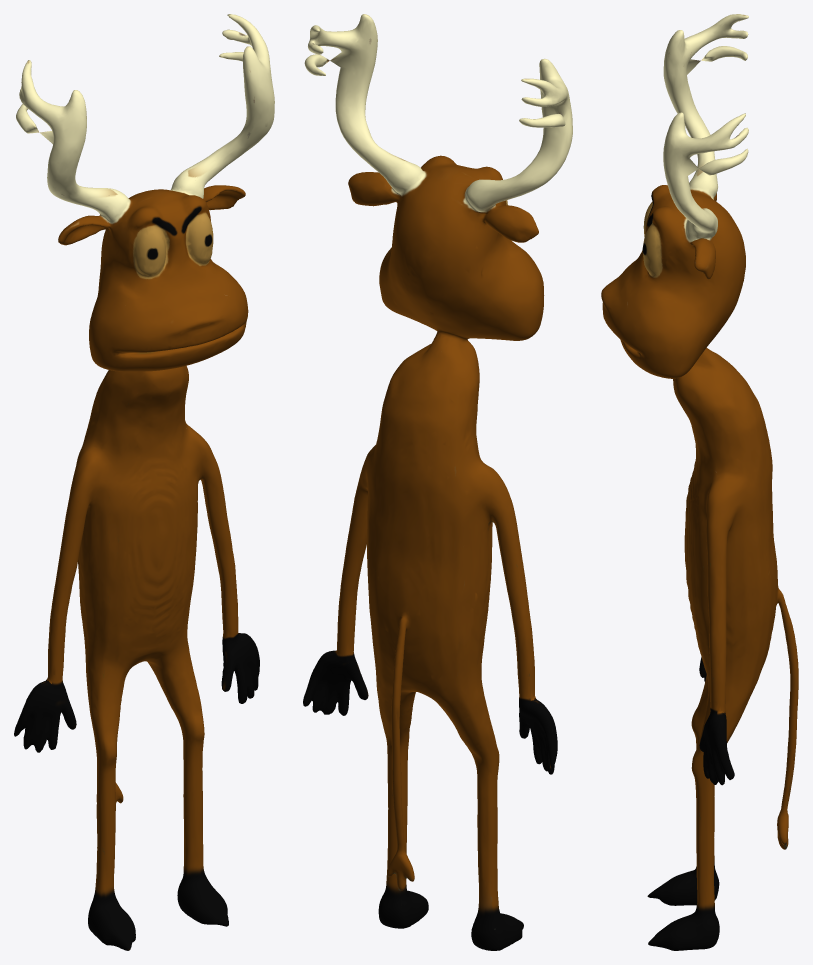
The model's file is Älgen.fbx.
3 renders of one model, left to right at view 1: azimuth 30°, elevation 25°; view 2: azimuth 150°, elevation 25°; view 3: azimuth 270°, elevation 25°, orthographic. The views are drawn at different scales.
Visible parts, largest first — view 1: Mesh_0; view 2: Mesh_0; view 3: Mesh_0.
Part boxes in pixels (bbox=[...]): Mesh_0: bbox=[14, 14, 274, 950]; Mesh_0: bbox=[303, 14, 572, 950]; Mesh_0: bbox=[601, 14, 798, 950].
Bounding box in the file's own units: 59.21 × 200 × 41.74.
Materials: 1 (1 with a texture image).
